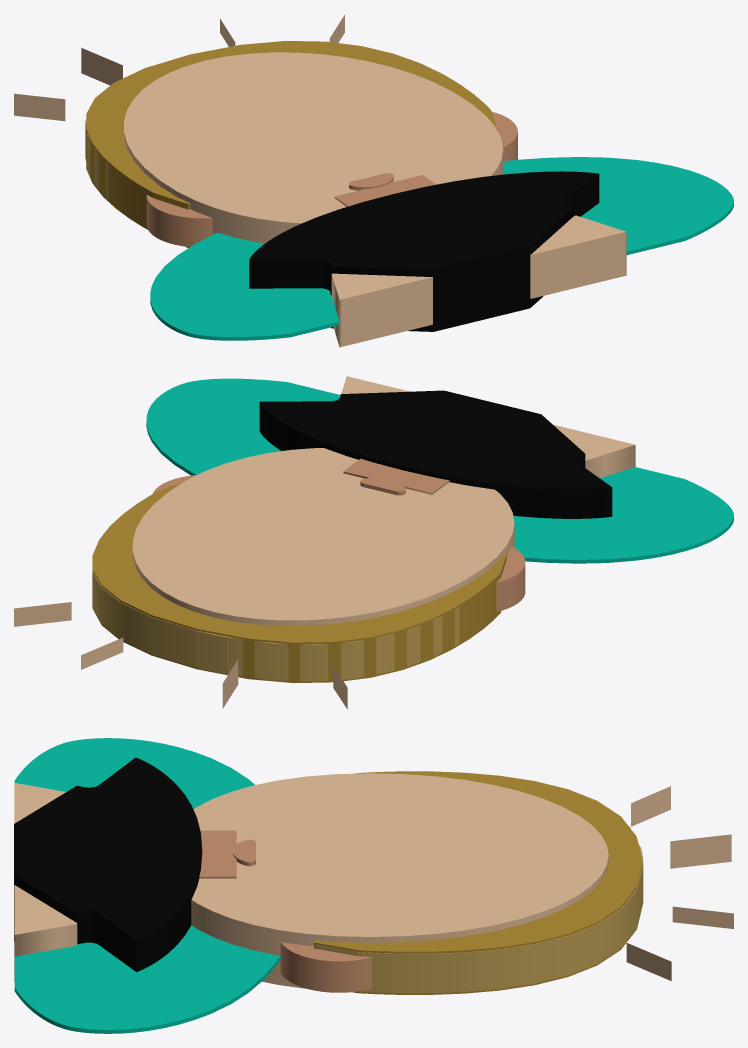
Rendered from emoji_u1f647_1f3fc_200d_2642.glb.
3 views of the same model, one above another, from view 1: azimuth 30°, elevation 25°; view 2: azimuth 150°, elevation 25°; view 3: azimuth 270°, elevation 25° (orthographic). The views are drawn at different scales.
Parts seen in each view (by area): view 1: emoji_u1f647_1f3fc_200d_2642; view 2: emoji_u1f647_1f3fc_200d_2642; view 3: emoji_u1f647_1f3fc_200d_2642.
Part boxes in pixels (<box>): emoji_u1f647_1f3fc_200d_2642: <box>14,15,733,347</box>; emoji_u1f647_1f3fc_200d_2642: <box>14,376,733,709</box>; emoji_u1f647_1f3fc_200d_2642: <box>14,738,733,1033</box>.
Size of the model in its own units: 0.0319 by 0.0034 by 0.0332.
